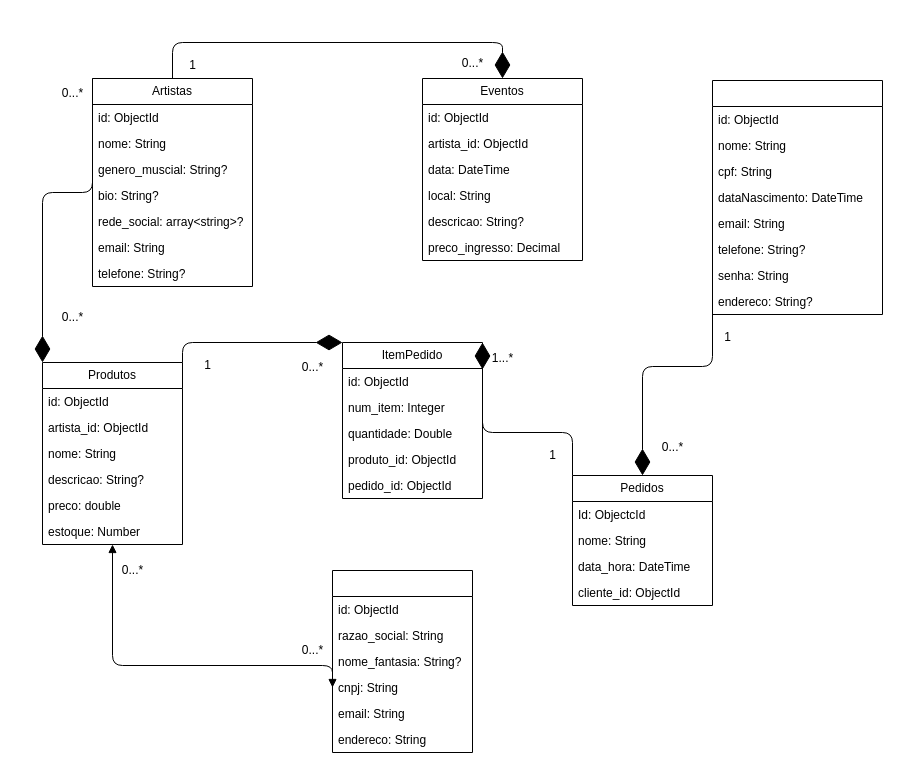
Some shapes in this 900 by 773 pixel diagram are drawn without their labels. The shapes that lost their labels are listed below. From the top down, each one's box as (x1, y1, x2, y2) in pixels, then its label:
(712, 80, 882, 314): Clientes (fãs)
(332, 570, 472, 752): Fornecedor
